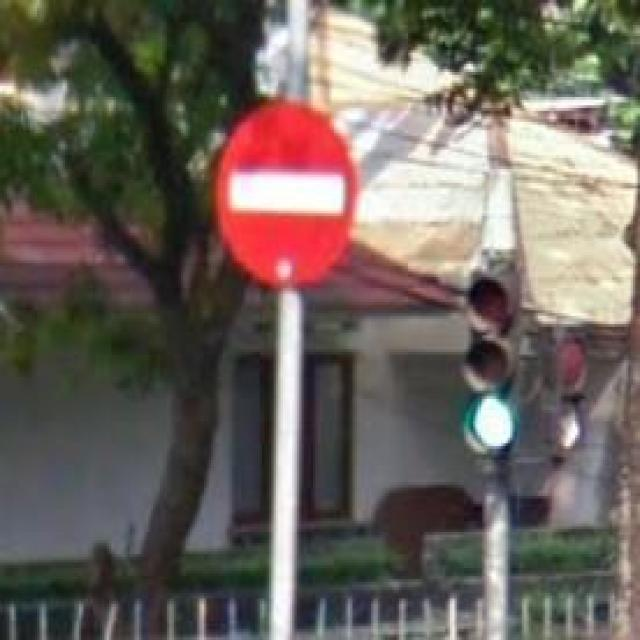traffic sign: (216, 105, 360, 282)
